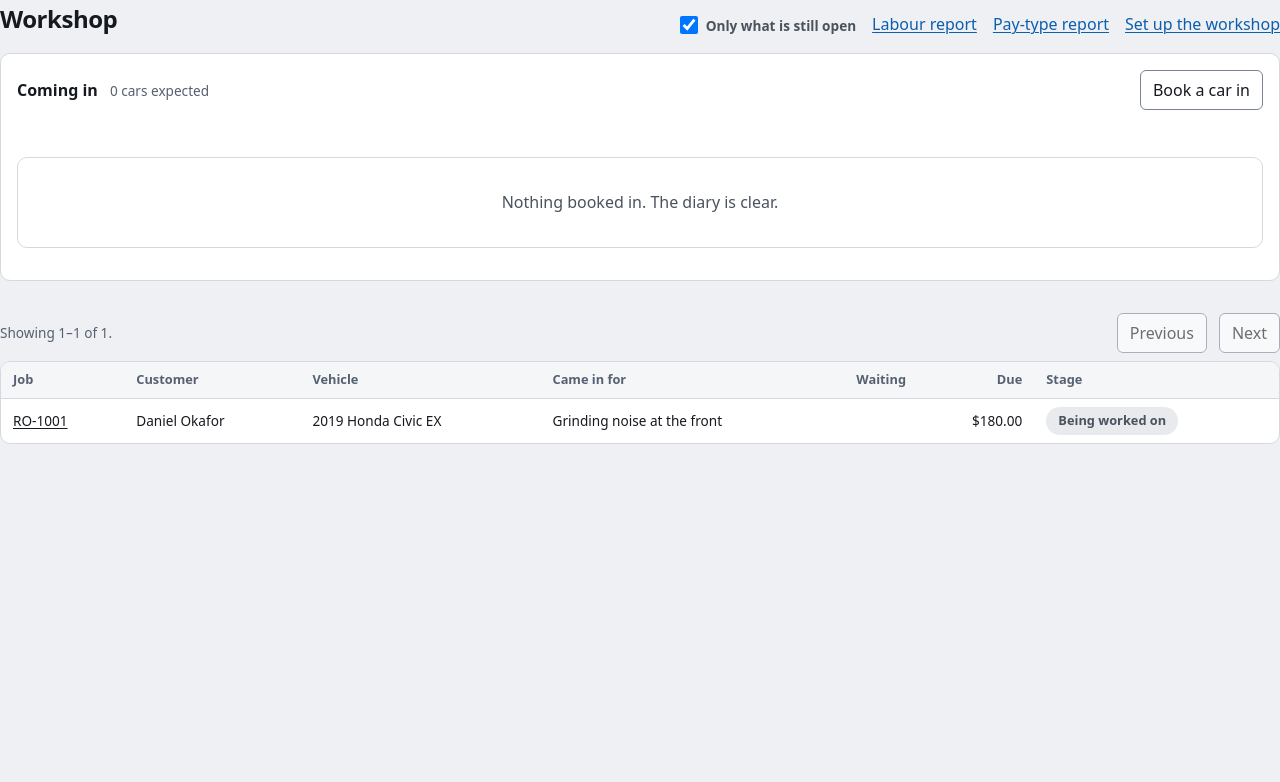
Scenario: one job › splits labour from parts, because one total tells a manager nothing
Click the button "RO-1001" at x=40, y=421, box [13, 409, 68, 433]
(page scrolled)
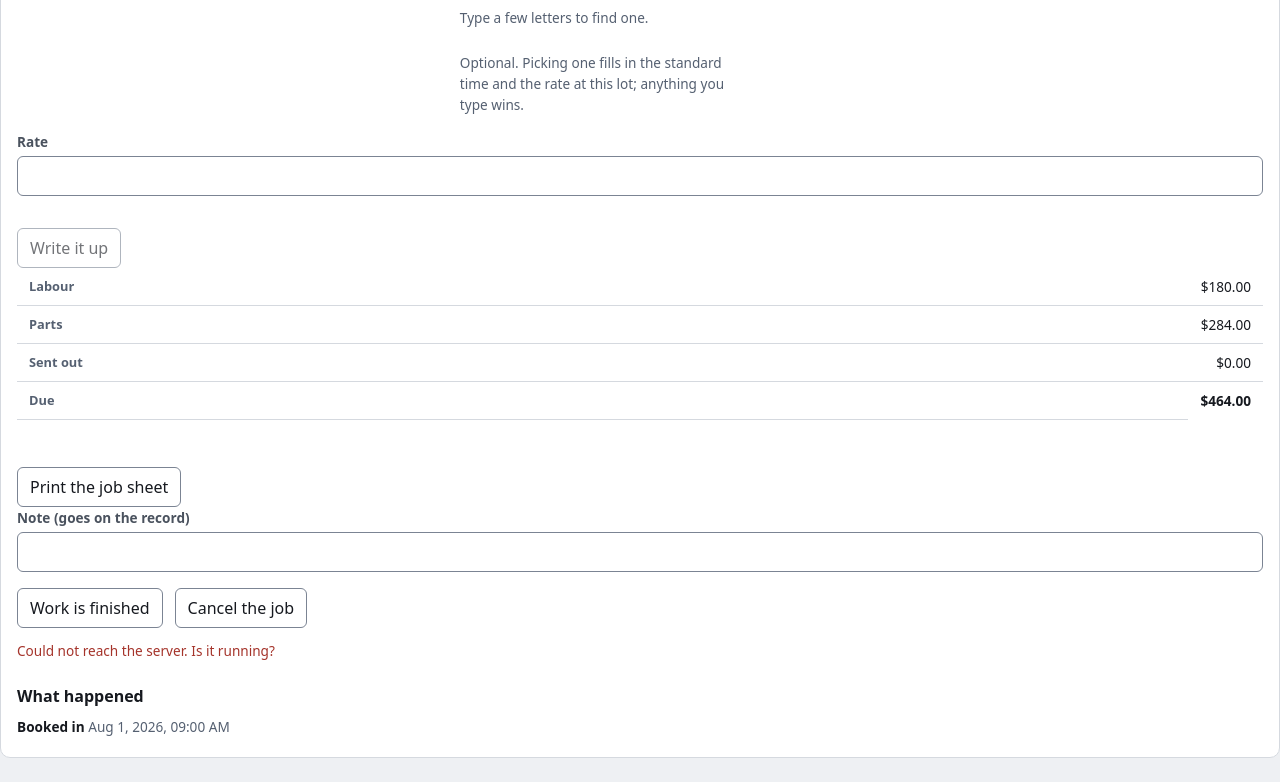
Check: the text "$180.00" is shown, box [1188, 268, 1263, 306]
Check: the text "$284.00" is shown, box [1188, 306, 1263, 344]
Check: the text "$464.00" is shown, box [1188, 382, 1263, 420]
